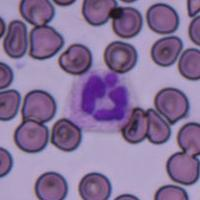N: (65, 69, 136, 132)
